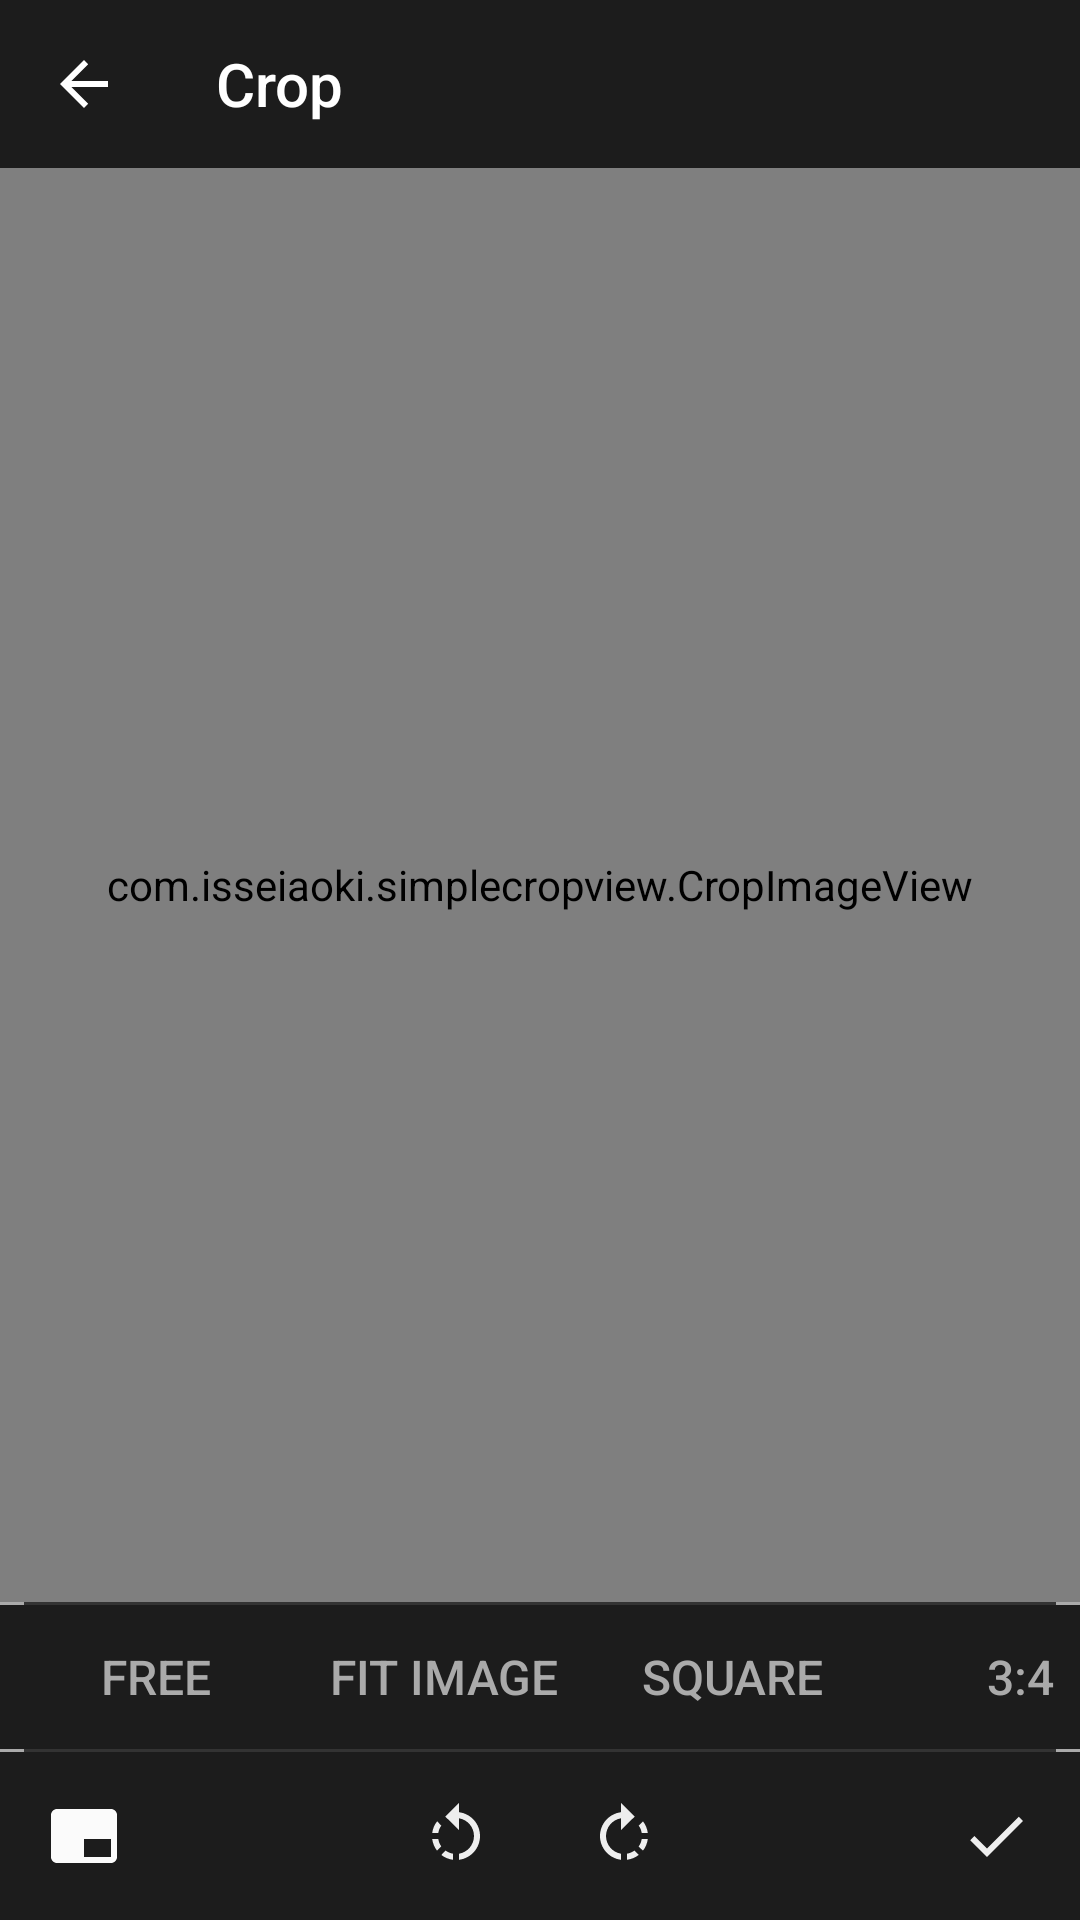

Icons on this 1080 × 1920 Android screen, each with the point to tap as point (x, y):
branding watermark: point (84, 1836)
done: point (996, 1837)
rotate left: point (456, 1831)
rotate right: point (624, 1831)
